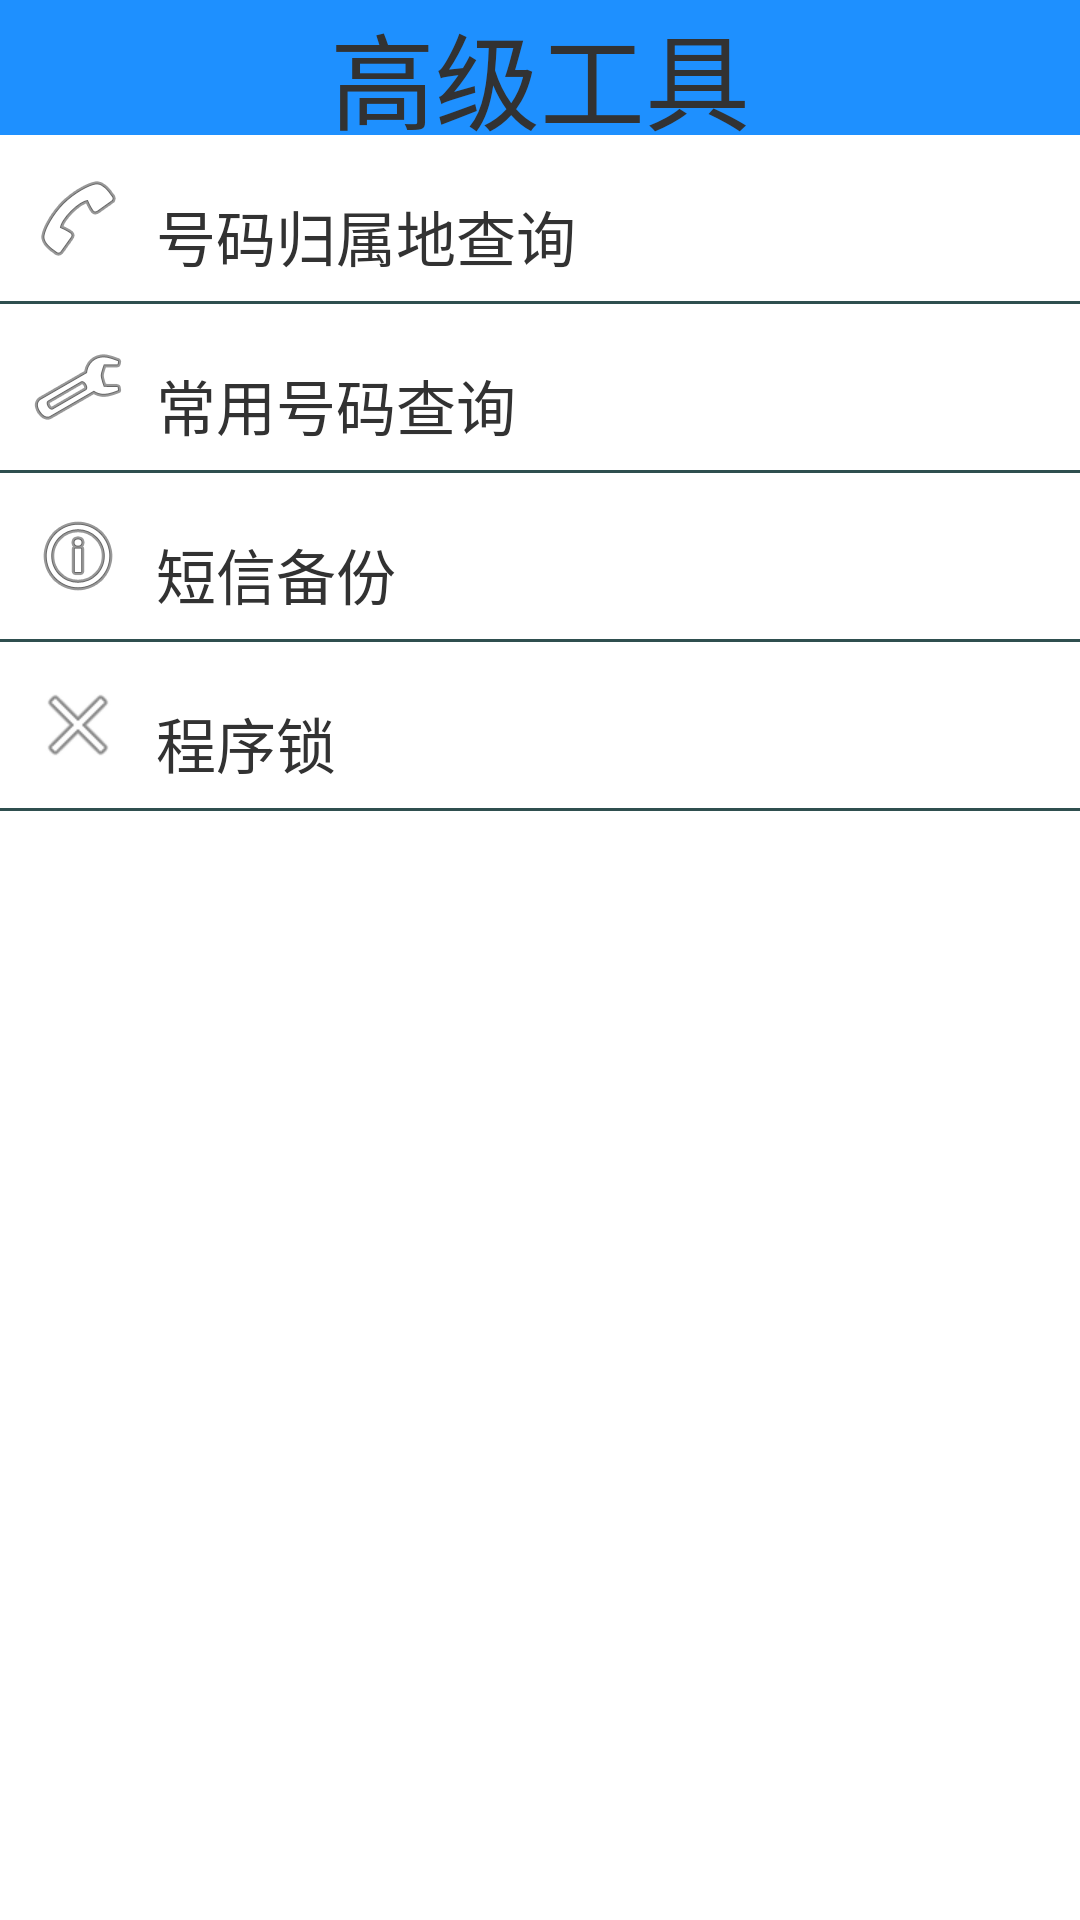

Screen size 1080×1920. Icon name, then its center in pixels as (x,y):
call: (78,218)
close clear cancel: (78,725)
info details: (78,556)
manage: (78,387)
